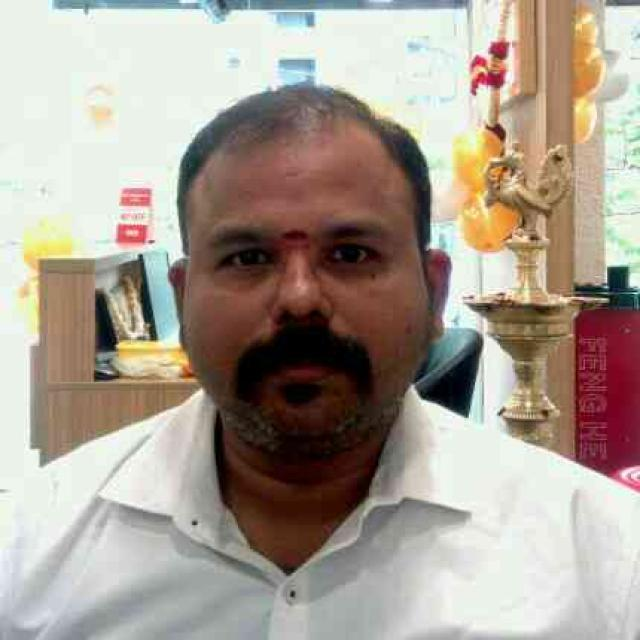Puffy Eyes - v3 Dark Circle: (213, 270, 272, 292), (320, 266, 380, 285)
